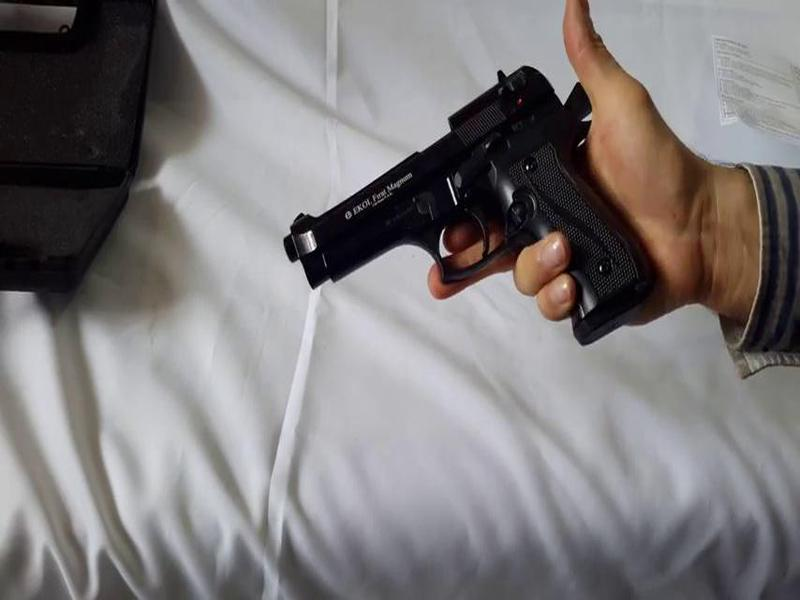Pistola: (268, 48, 711, 368)
